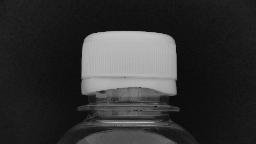Loose Cap: (72, 74, 184, 116)
